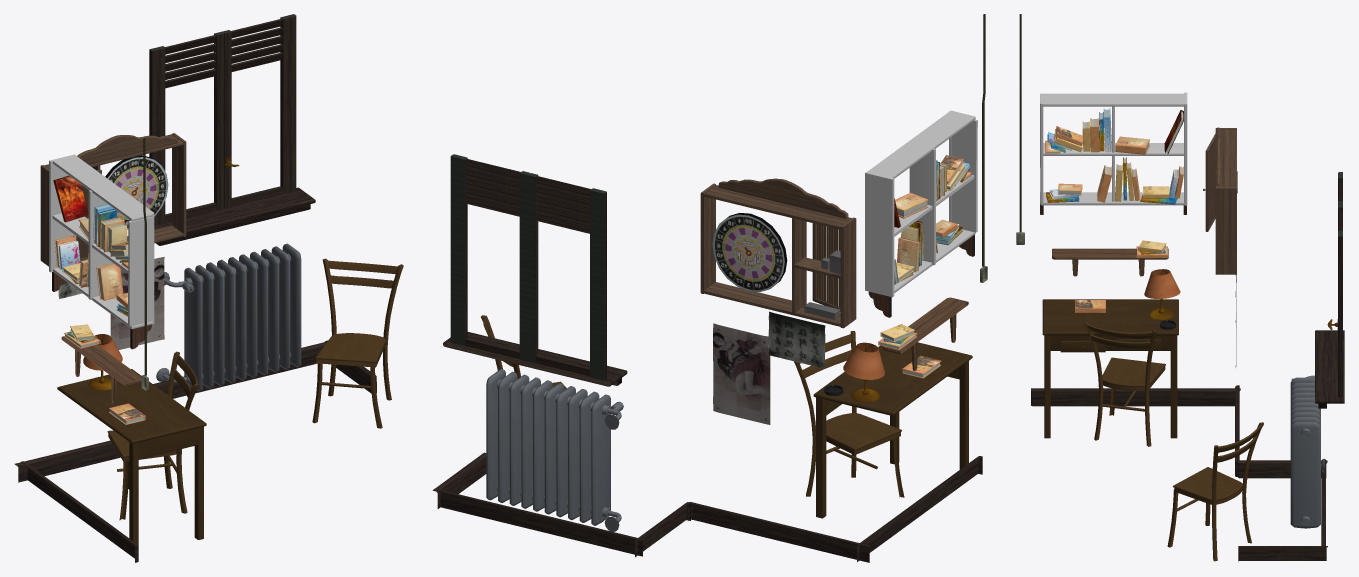
Rendered from room_noalarmdoor.obj.
The picture shows the model from 3 angles, left to right: view 1: azimuth 30°, elevation 25°; view 2: azimuth 150°, elevation 25°; view 3: azimuth 270°, elevation 25°; orthographic projection. The views are drawn at different scales.
Visible parts, largest first — view 1: pCube4 zhuozi, chuangzi group4 pCube135, shujia pCube82, guizi pCylinder6, chuangzi group4 chuangtai pCube18, shujia pCube80, group4 qiang_zhuang qiangbi pCube125, pCube134 chuangzi group4, group4 pCube35 nuanqi, group4 pCube121 qiang_zhuang qiangbi, pPlane3, chuangzi group4 pCube137 (+36 smaller); view 2: pPlane3, guizi pCylinder6, pCube4 zhuozi, group4 qiang_zhuang qiangbi pCube123, shujia pCube84, chuangzi group4 pCube135, group4 pCube121 qiang_zhuang qiangbi, pCube134 chuangzi group4, pPlane4, shujia pCube80, group4 pCube35 nuanqi, chuangzi group4 pCube137 (+29 smaller); view 3: pCube4 zhuozi, group4 qiang_zhuang qiangbi pCube125, group4 nuanqi pCube44, shujia pCube80, pCube46 guizi, chuangzi group4 chuangtai pCube18, group4 qiang_zhuang qiangbi pCube124, pCube16 yizi, yizi pCube131, zawu pCube45, guizi pCube49, shujia pCube133 (+16 smaller).
Boxes of the visible parts, x1,y1,x2,y2 form: pCube4 zhuozi: [57, 369, 206, 443]; chuangzi group4 pCube135: [280, 14, 296, 194]; shujia pCube82: [128, 216, 152, 326]; guizi pCylinder6: [105, 155, 168, 229]; chuangzi group4 chuangtai pCube18: [154, 187, 315, 234]; shujia pCube80: [52, 154, 152, 221]; group4 qiang_zhuang qiangbi pCube125: [21, 461, 138, 562]; pCube134 chuangzi group4: [149, 46, 165, 225]; group4 pCube35 nuanqi: [184, 267, 202, 391]; group4 pCube121 qiang_zhuang qiangbi: [14, 440, 120, 482]; pPlane3: [110, 257, 164, 349]; chuangzi group4 pCube137: [214, 31, 223, 210]; pPlane3: [713, 323, 770, 424]; guizi pCylinder6: [712, 213, 787, 291]; pCube4 zhuozi: [813, 342, 972, 415]; group4 qiang_zhuang qiangbi pCube123: [435, 488, 643, 556]; shujia pCube84: [865, 172, 894, 297]; chuangzi group4 pCube135: [450, 154, 467, 346]; group4 pCube121 qiang_zhuang qiangbi: [688, 502, 869, 562]; pCube134 chuangzi group4: [590, 188, 606, 380]; pPlane4: [768, 311, 825, 368]; shujia pCube80: [866, 111, 975, 178]; group4 pCube35 nuanqi: [591, 394, 610, 525]; chuangzi group4 pCube137: [527, 173, 538, 363]; pCube4 zhuozi: [1042, 299, 1178, 335]; group4 qiang_zhuang qiangbi pCube125: [1031, 388, 1240, 406]; group4 nuanqi pCube44: [1290, 421, 1320, 528]; shujia pCube80: [1040, 93, 1186, 106]; pCube46 guizi: [1215, 187, 1236, 274]; chuangzi group4 chuangtai pCube18: [1315, 330, 1344, 403]; group4 qiang_zhuang qiangbi pCube124: [1238, 546, 1327, 561]; pCube16 yizi: [1102, 357, 1165, 386]; yizi pCube131: [1173, 467, 1242, 500]; zawu pCube45: [1052, 248, 1168, 259]; guizi pCube49: [1216, 129, 1236, 186]; shujia pCube133: [1040, 192, 1184, 205].
Size of the model in its own units: 7.02 by 7.62 by 5.79.
